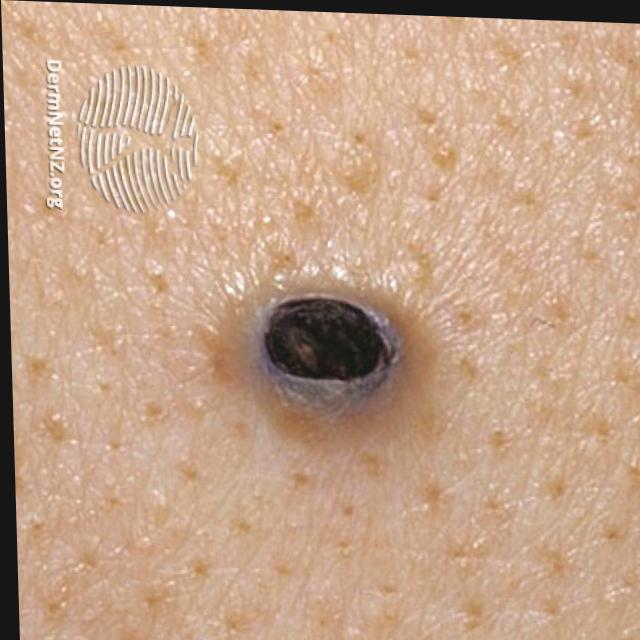dark spot: (226, 238, 429, 434)
